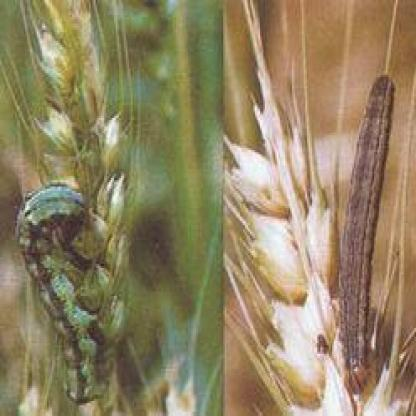armyworm: (331, 73, 402, 398), (16, 182, 112, 404)
